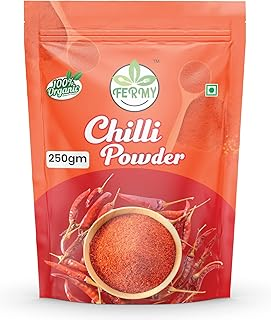Chilli Powder: (23, 2, 257, 315)
